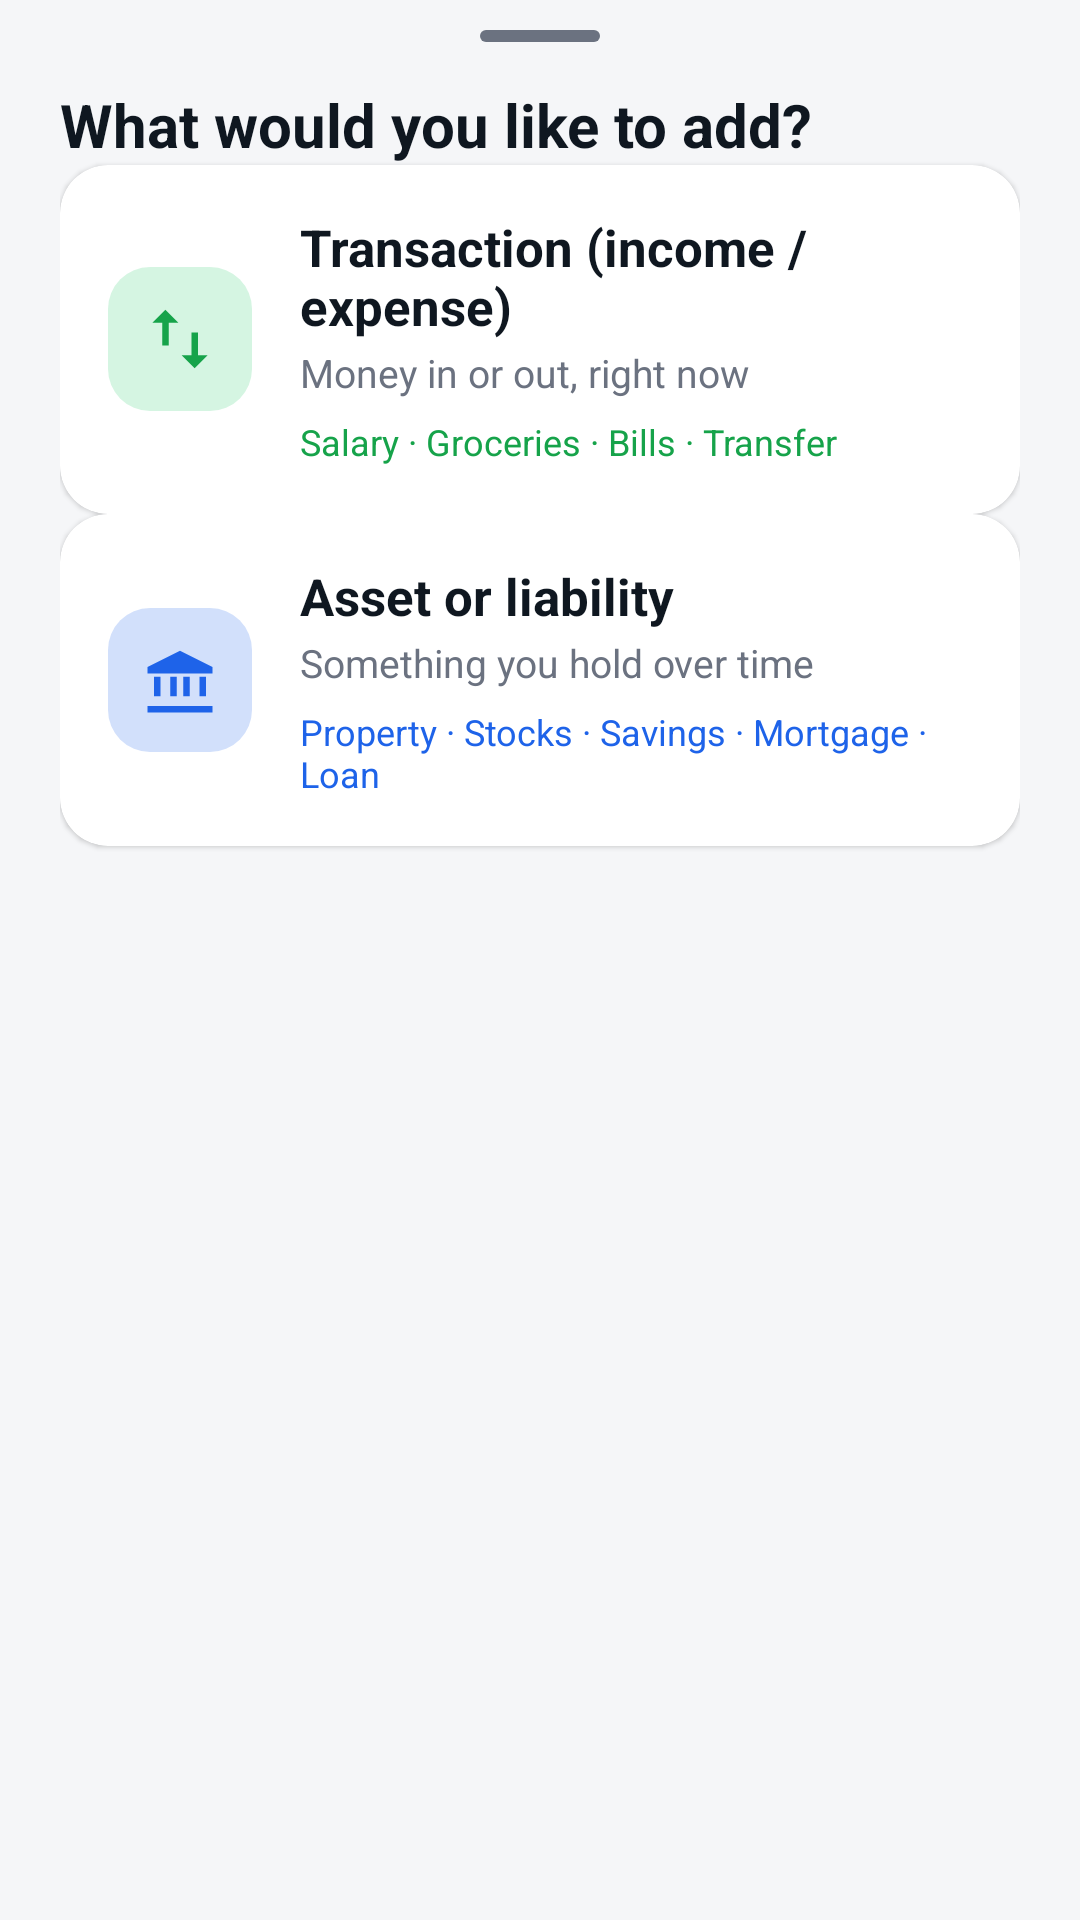

Where to tap for icons on this 1080×1920 app screen, as (x,y):
type holding: (180,682)
type transaction: (180,339)
